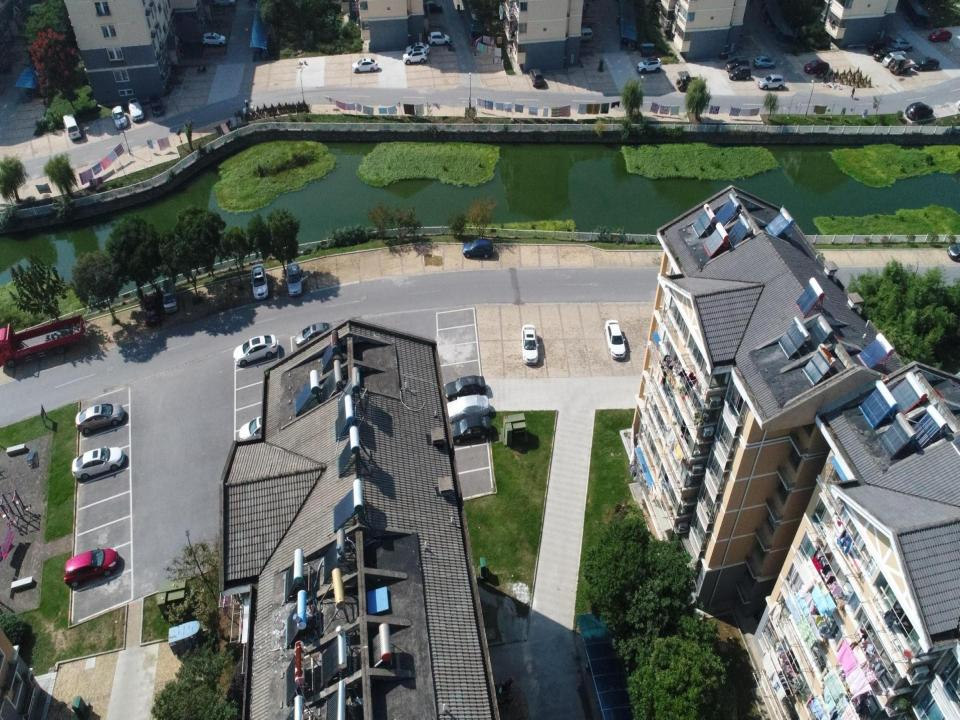car: (0, 314, 85, 368), (63, 546, 120, 588), (72, 445, 125, 481), (74, 402, 125, 434), (233, 334, 278, 368), (444, 394, 491, 424), (448, 415, 492, 443), (239, 415, 278, 444), (444, 374, 487, 400), (295, 321, 333, 350), (604, 319, 626, 360), (286, 261, 309, 297), (521, 324, 540, 365), (250, 263, 269, 300), (462, 239, 494, 259), (142, 293, 160, 327), (904, 101, 934, 121), (403, 48, 428, 66), (758, 74, 785, 90), (351, 58, 378, 74), (200, 30, 227, 46), (637, 57, 662, 74), (872, 47, 898, 63), (111, 106, 128, 130), (725, 56, 750, 72), (913, 57, 939, 72), (148, 92, 164, 116), (128, 97, 144, 121), (803, 60, 830, 74), (888, 37, 913, 52), (928, 27, 952, 42), (729, 65, 751, 81), (428, 30, 450, 46), (405, 41, 430, 55), (867, 39, 889, 54), (753, 55, 776, 69), (420, 1, 443, 13)
van: (162, 278, 178, 314), (62, 114, 82, 140), (882, 50, 906, 68), (529, 68, 544, 88), (576, 27, 593, 44)
